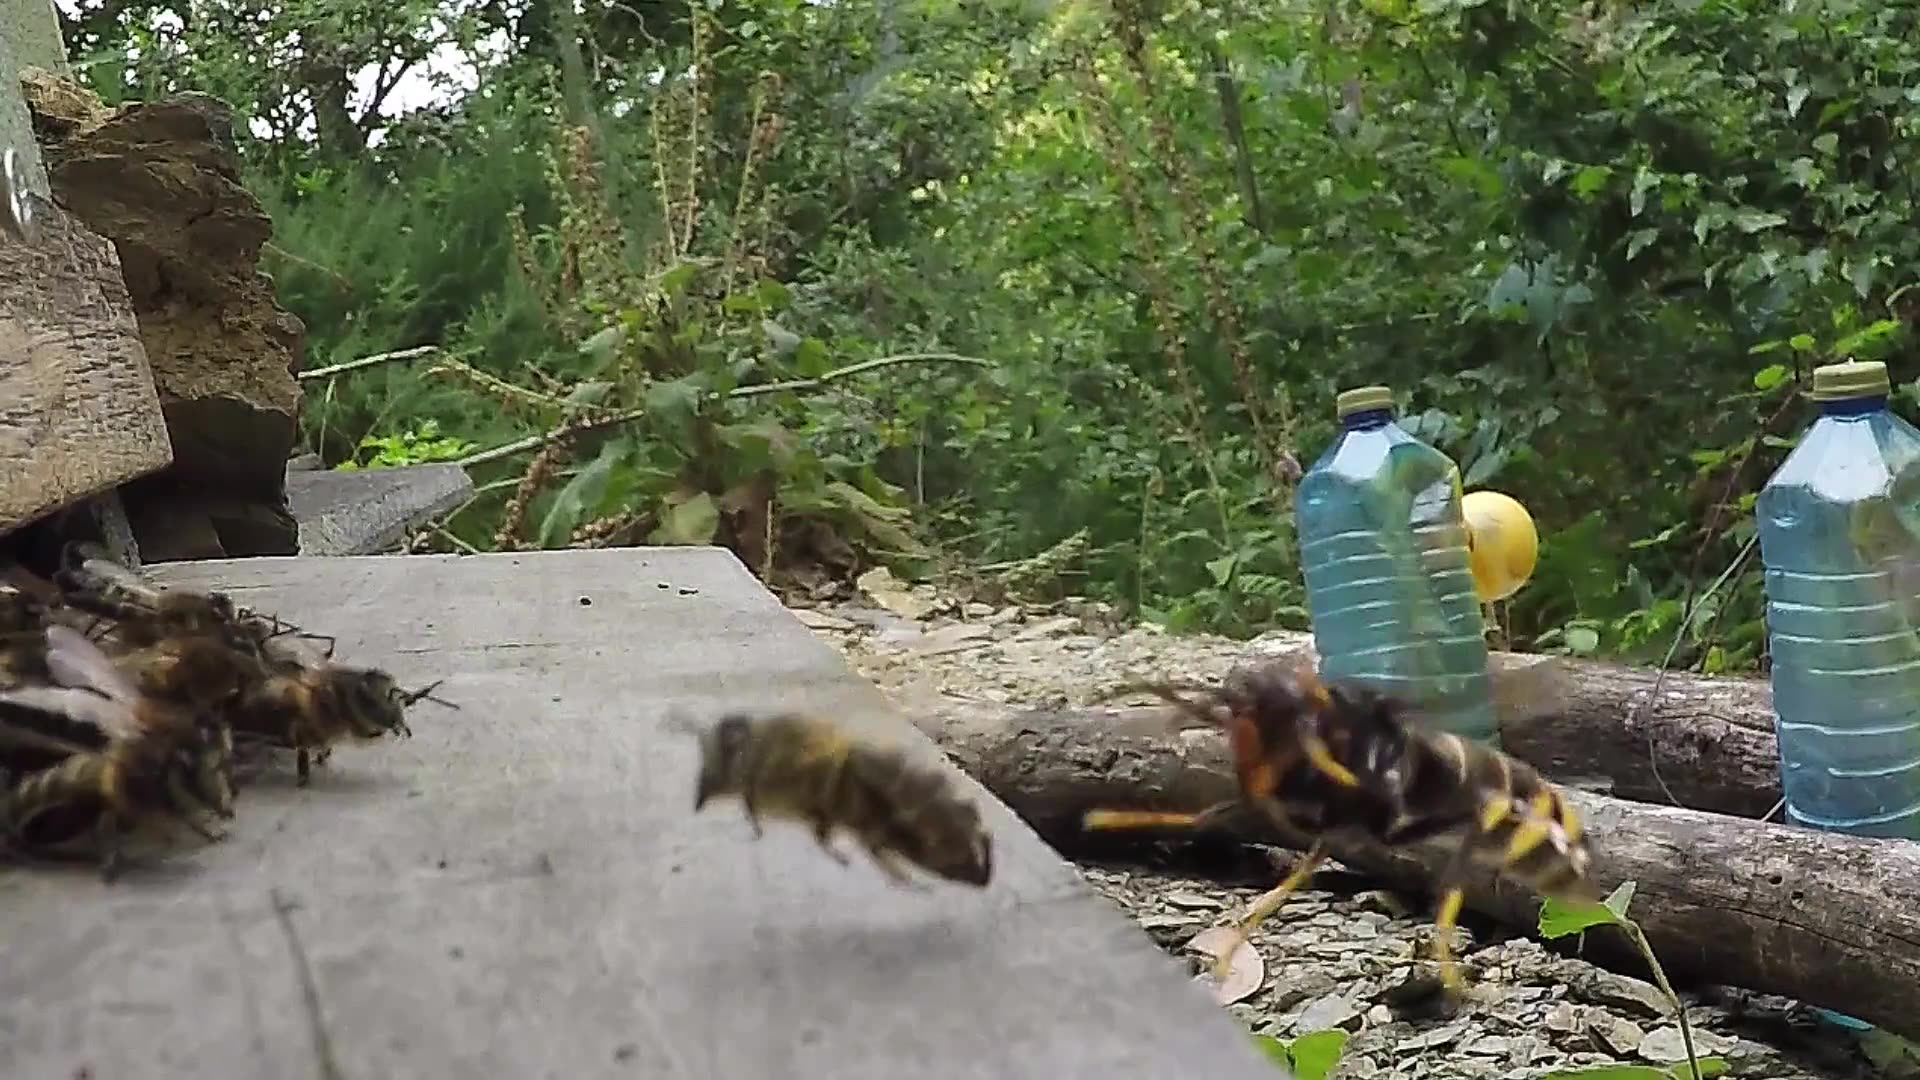bee: (1, 527, 255, 862), (667, 691, 1029, 905), (222, 640, 415, 764)
hornet: (1131, 603, 1650, 980)
